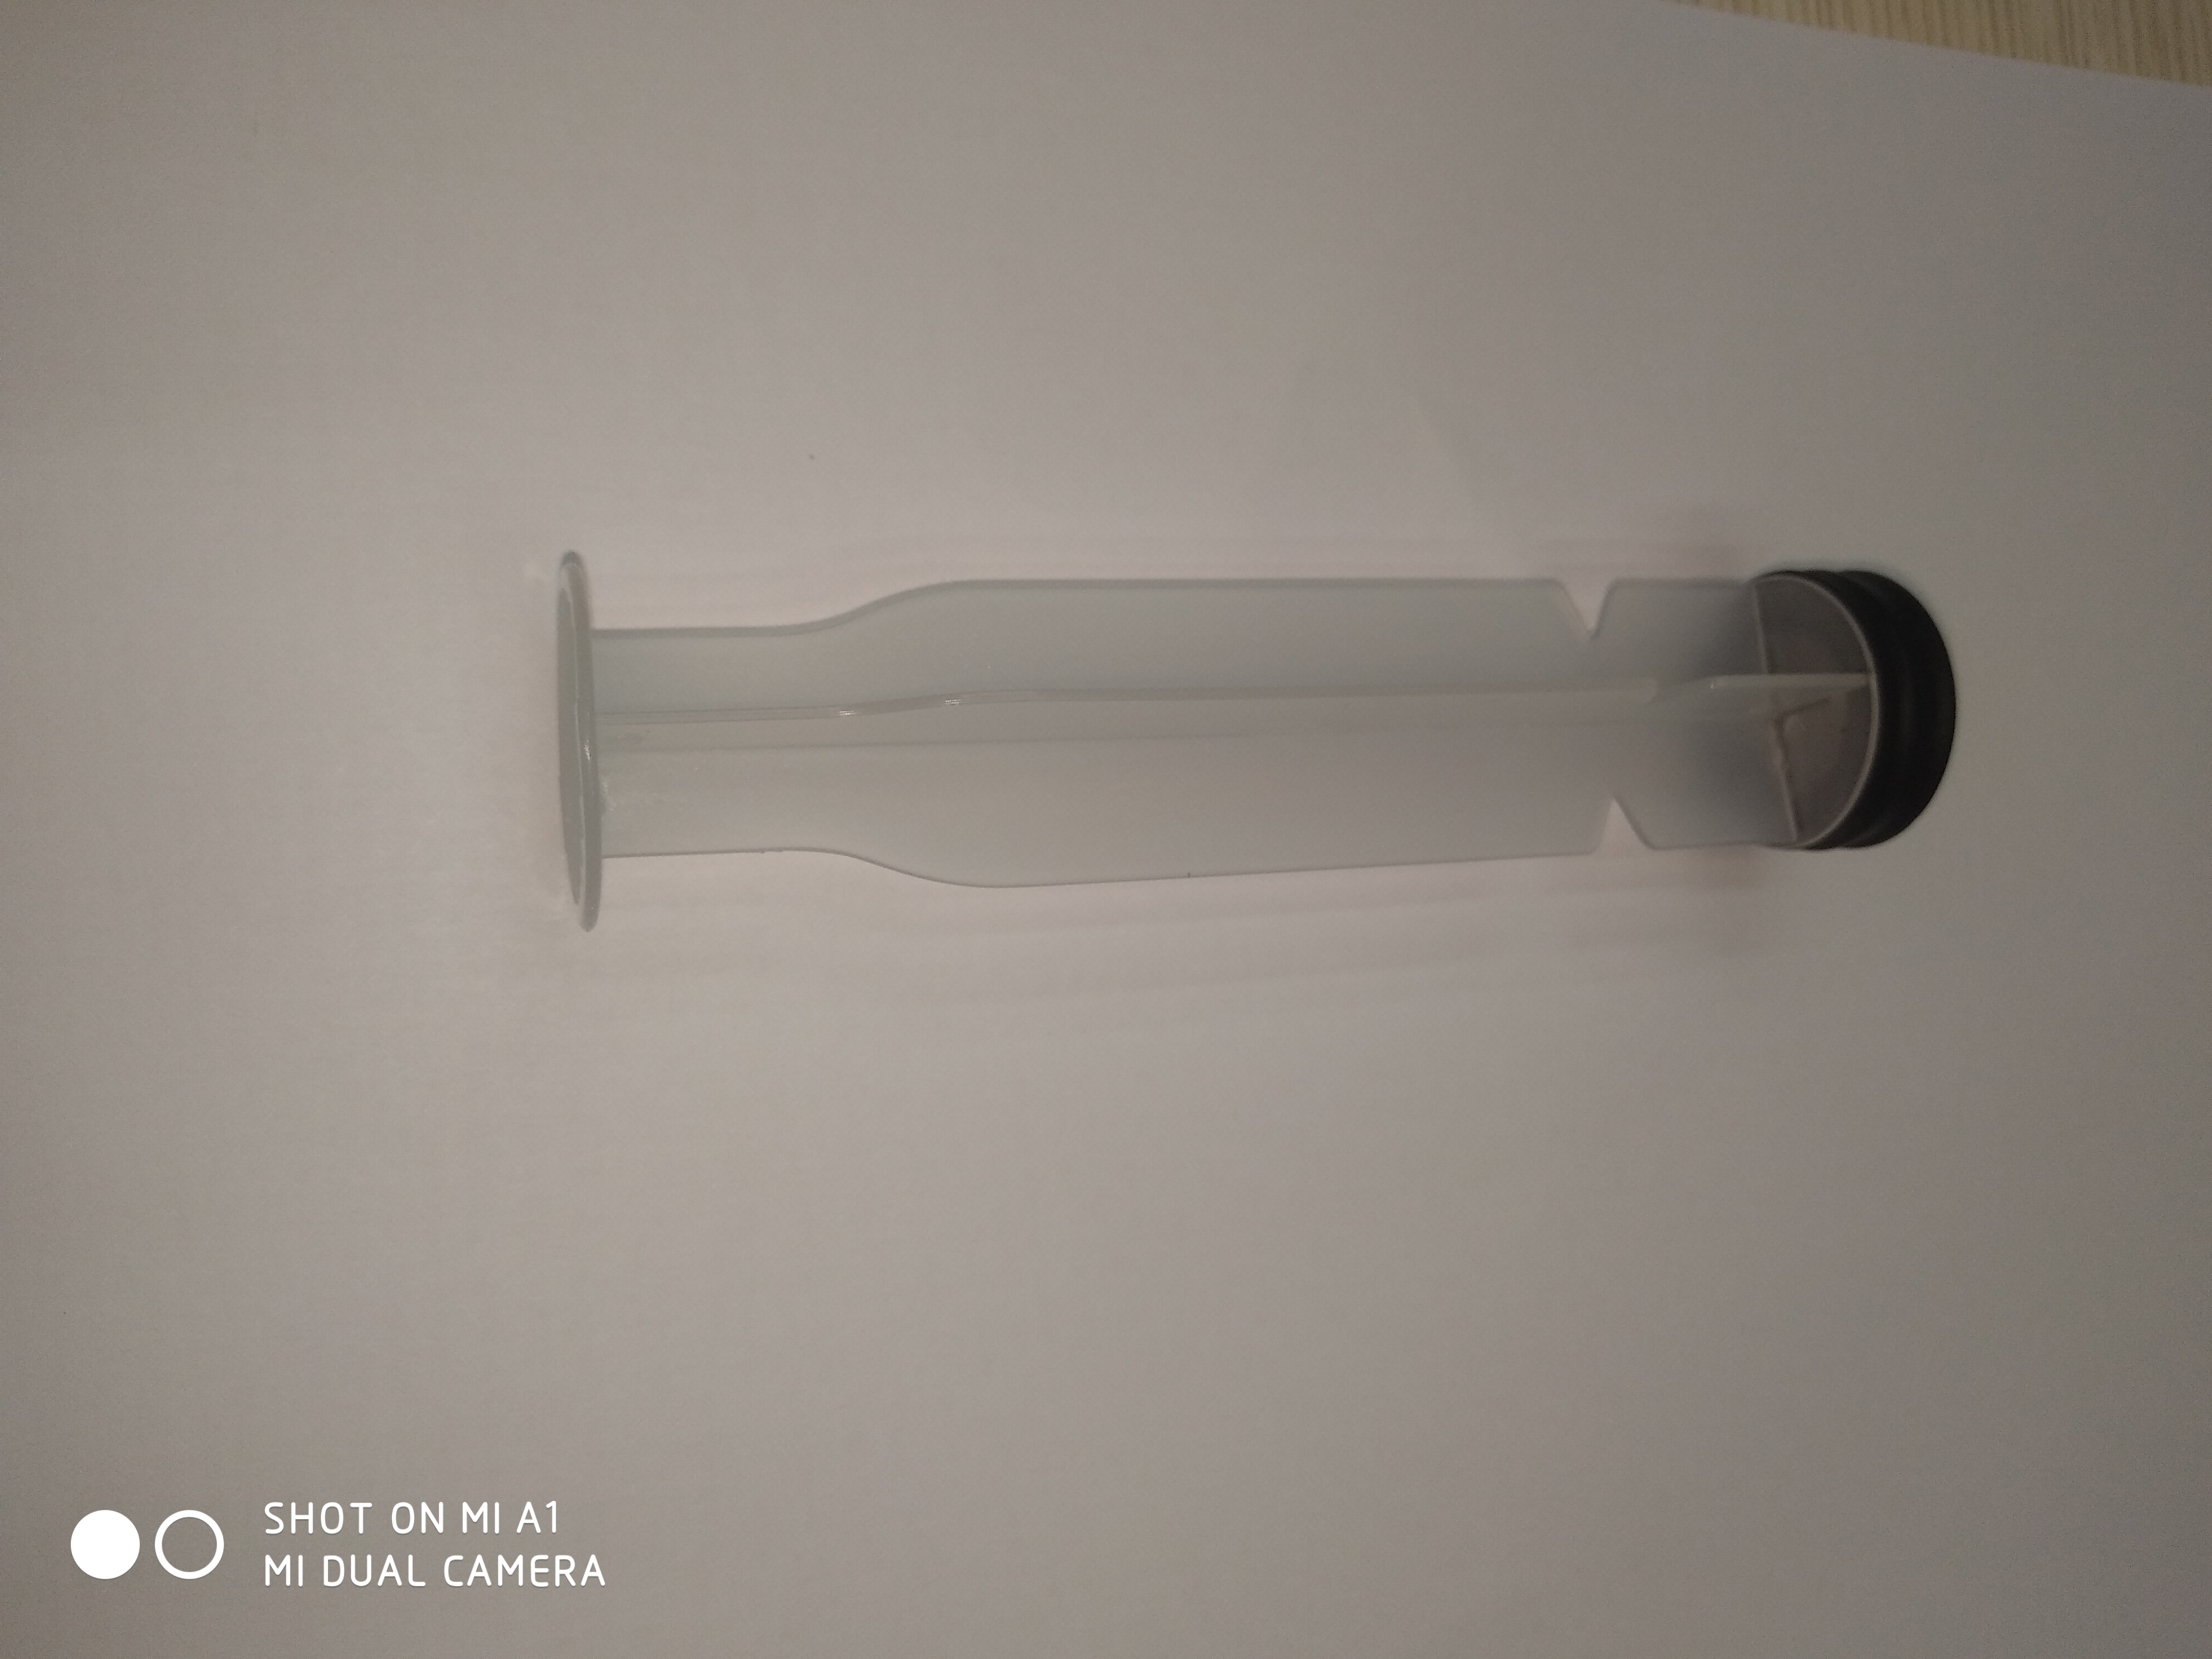plunger: (547, 532, 1963, 941)
